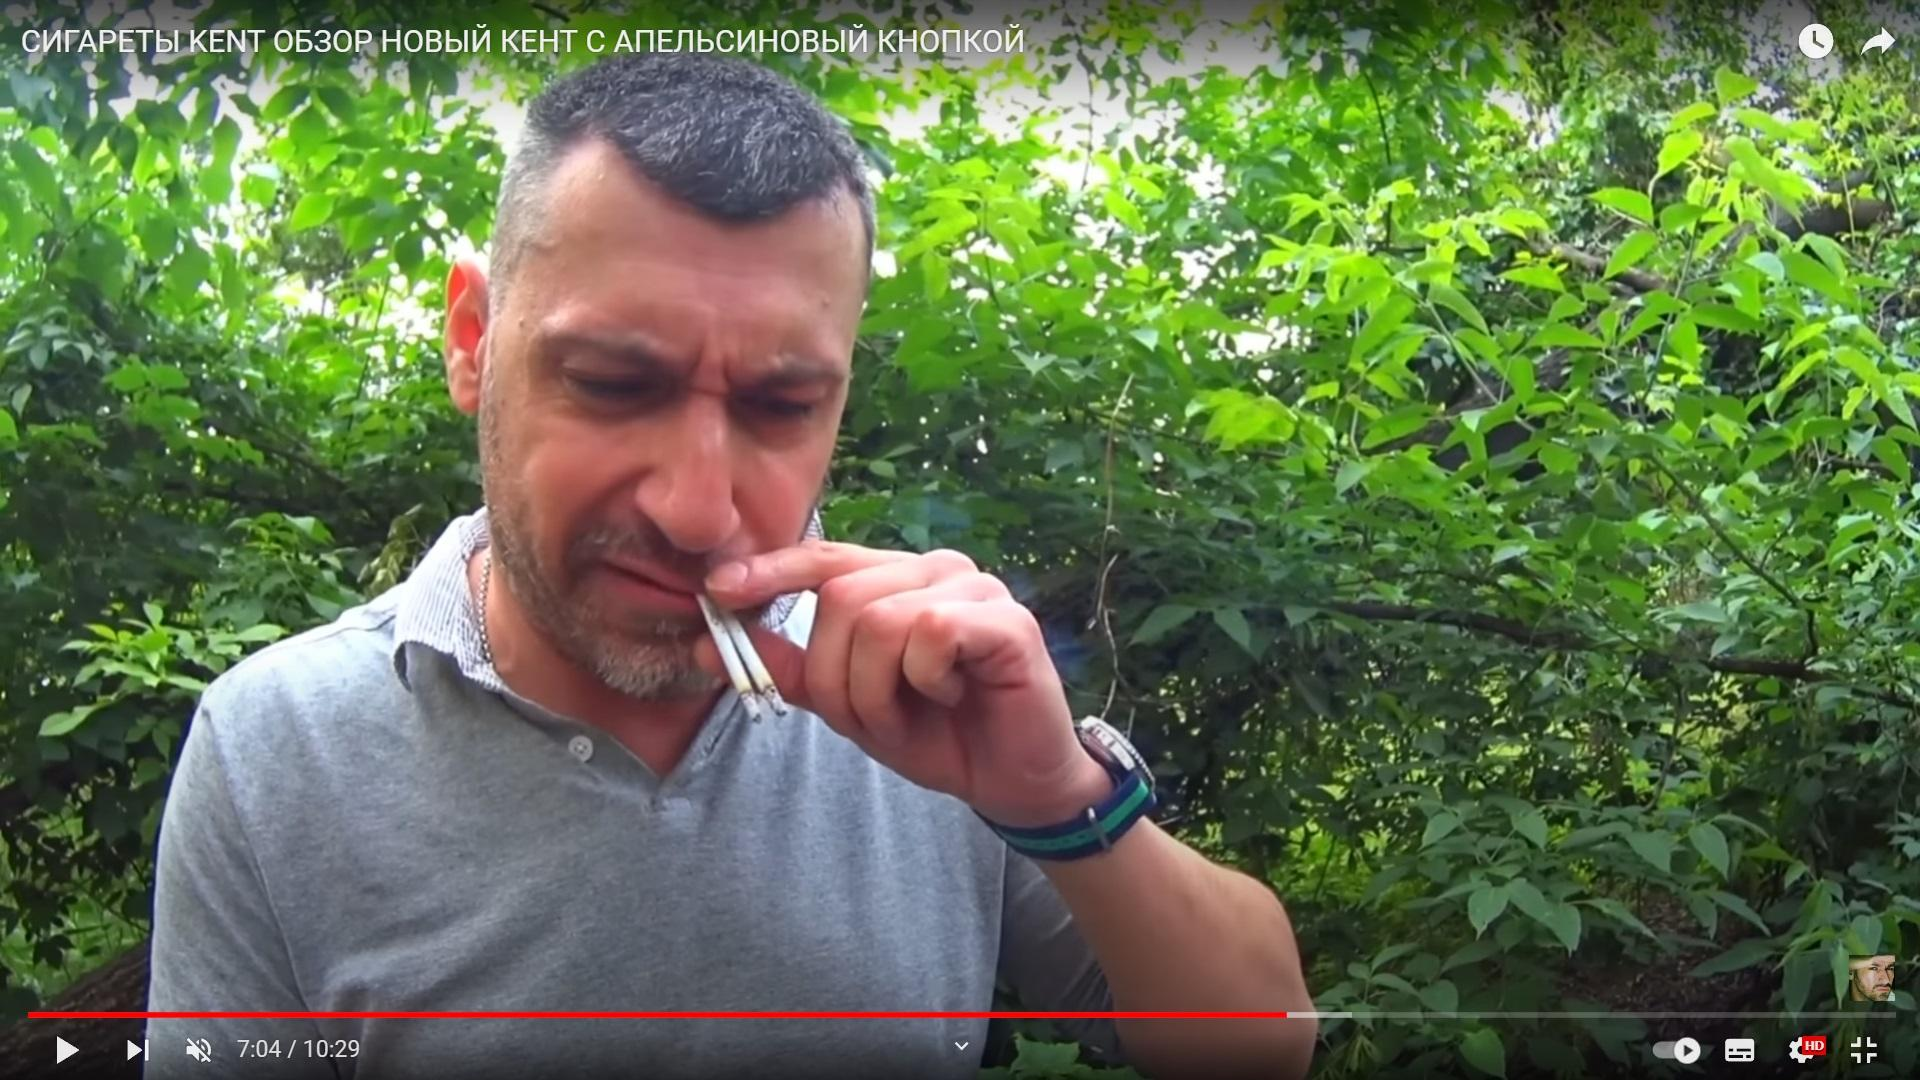cigarette: (695, 591, 762, 725), (713, 601, 789, 717)
